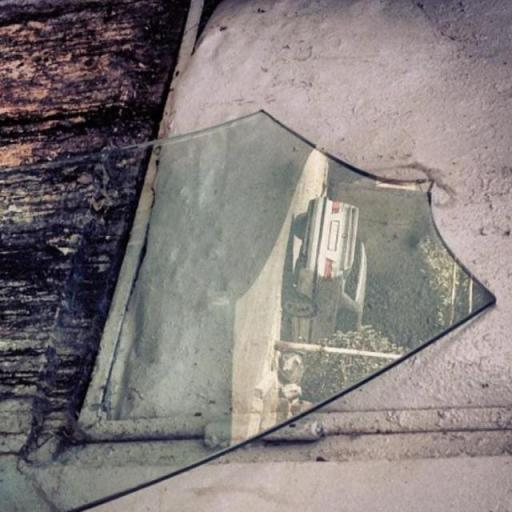glass: (0, 105, 503, 512)
